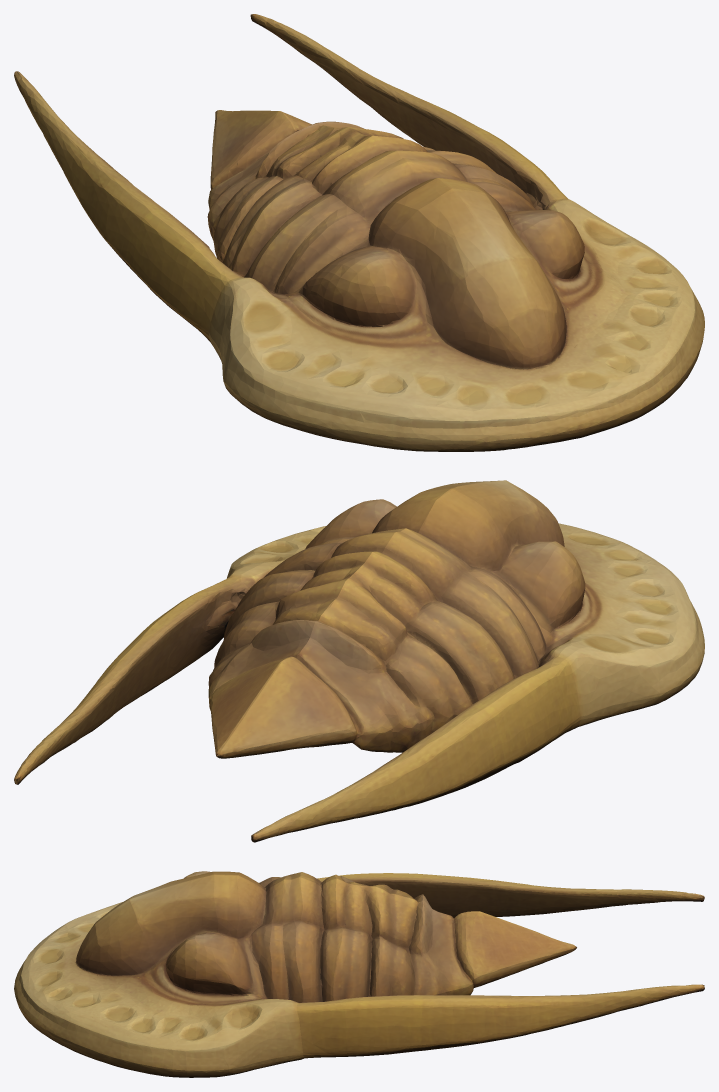
The picture shows the model from 3 angles, top to bottom: view 1: azimuth 30°, elevation 25°; view 2: azimuth 150°, elevation 25°; view 3: azimuth 270°, elevation 25°; orthographic projection. The views are drawn at different scales.
Visible parts, largest first — view 1: world; view 2: world; view 3: world.
Boxes of the visible parts, box(x1,y1,x2,y2) form: world: box(14, 14, 704, 451); world: box(14, 480, 704, 842); world: box(14, 871, 704, 1077).
Size of the model in its own units: 0.5748 by 0.2017 by 1.
Materials: 1 (1 with a texture image).
